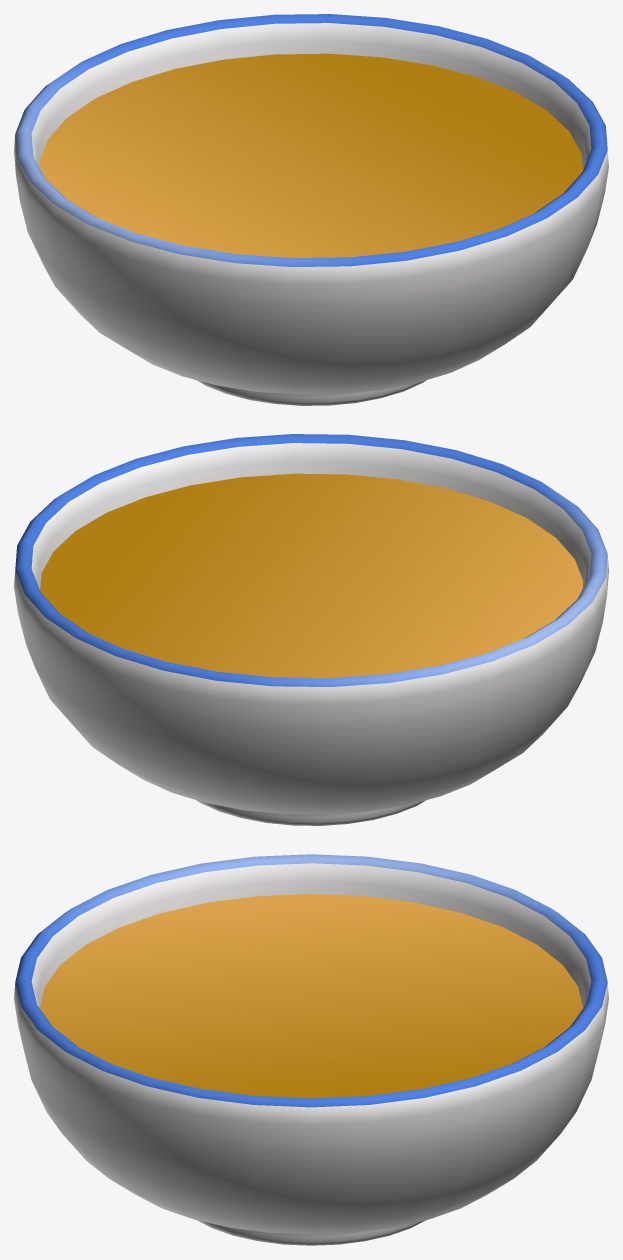
Rendered from SoupPumpkin.glb.
3 views of the same model, one above another, from view 1: azimuth 30°, elevation 25°; view 2: azimuth 150°, elevation 25°; view 3: azimuth 270°, elevation 25° (orthographic).
Visible parts, largest first — view 1: SoupPumpkin; view 2: SoupPumpkin; view 3: SoupPumpkin.
Boxes of the visible parts, x1=… form: SoupPumpkin: x1=14, y1=14, x2=608, y2=405; SoupPumpkin: x1=14, y1=434, x2=608, y2=825; SoupPumpkin: x1=14, y1=854, x2=608, y2=1245.
Size of the model in its own units: 0.3116 by 0.1239 by 0.3116.
1 material, 1 textured.
